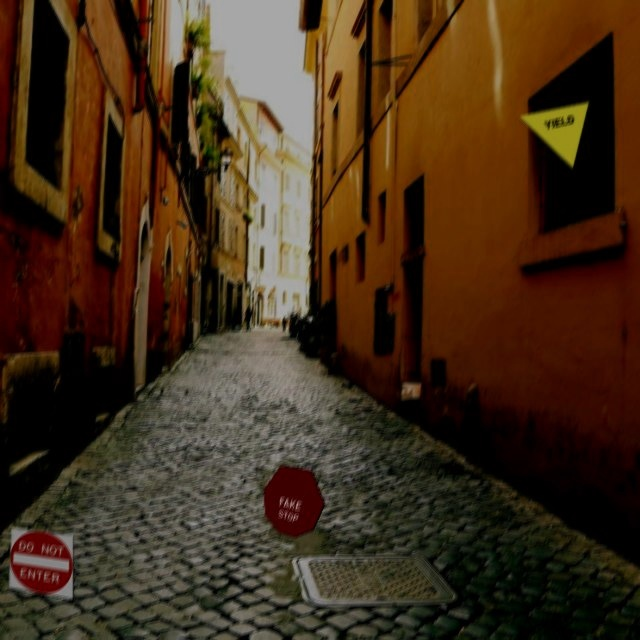DO_NOT_ENTER: (8, 528, 74, 601)
FAKE_STOP: (263, 466, 325, 539)
YIELD: (517, 102, 590, 171)
